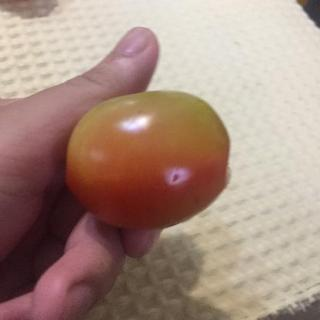Tomat: (54, 79, 243, 236)
